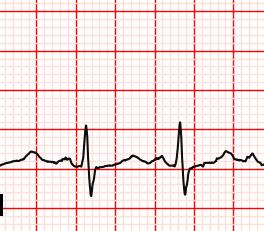ST Depression: (79, 162, 106, 202), (170, 162, 197, 199)
